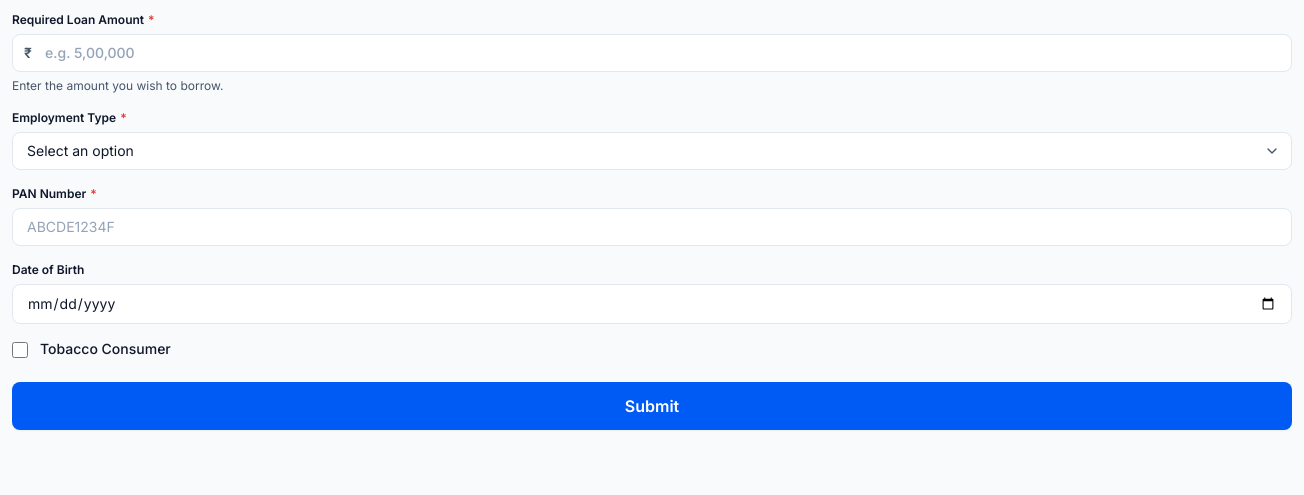
Test: SchemaForm Component › shows required validation errors on empty submission
Step 1. Click the button "Submit" → click(652, 406), box top-left (12, 382), bottom-right (1292, 430)
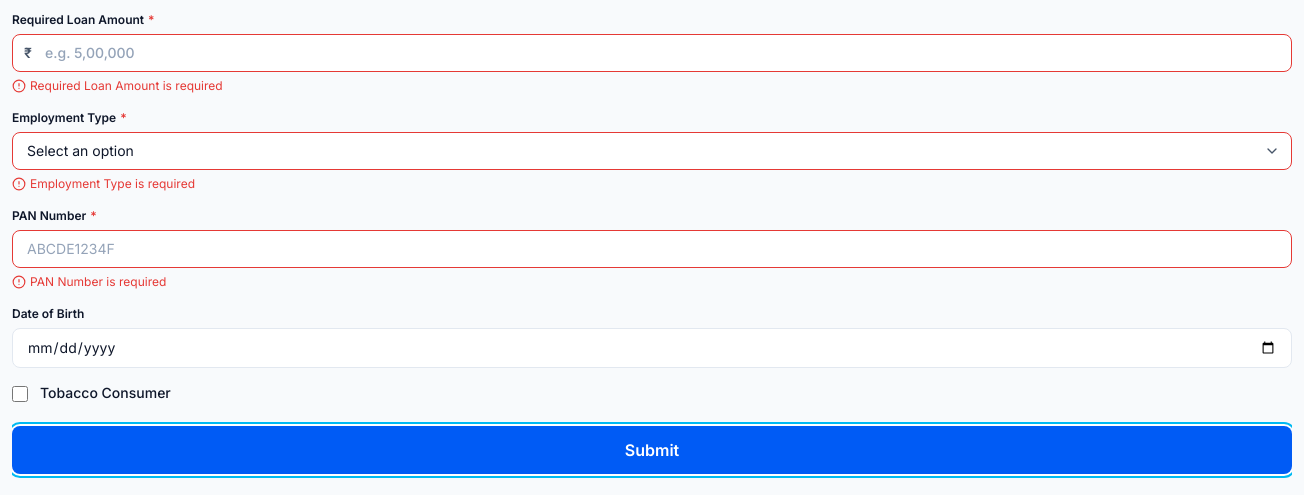
Now the text "Required Loan Amount is required" is shown, box top-left (30, 78), bottom-right (223, 94)
Now the text "Employment Type is required" is shown, box top-left (30, 176), bottom-right (195, 192)
Now the text "PAN Number is required" is shown, box top-left (30, 274), bottom-right (166, 290)
